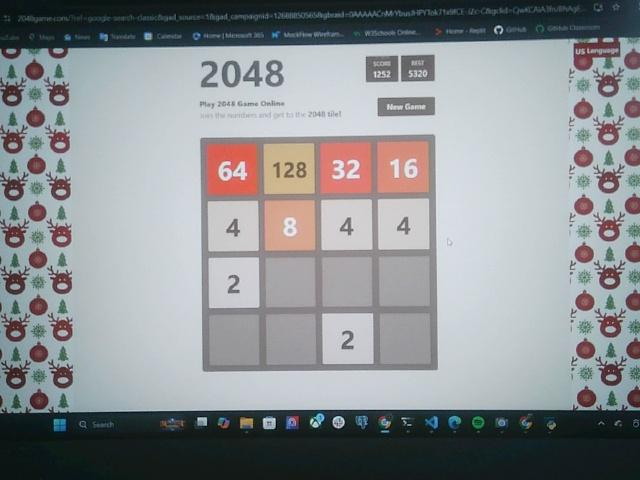board: (202, 136, 435, 372)
tile: (378, 199, 430, 251), (321, 200, 373, 251), (207, 144, 257, 195), (265, 143, 315, 194), (321, 144, 372, 194), (378, 143, 428, 194), (208, 201, 259, 251), (209, 257, 259, 308), (324, 314, 374, 365), (265, 200, 314, 251)
